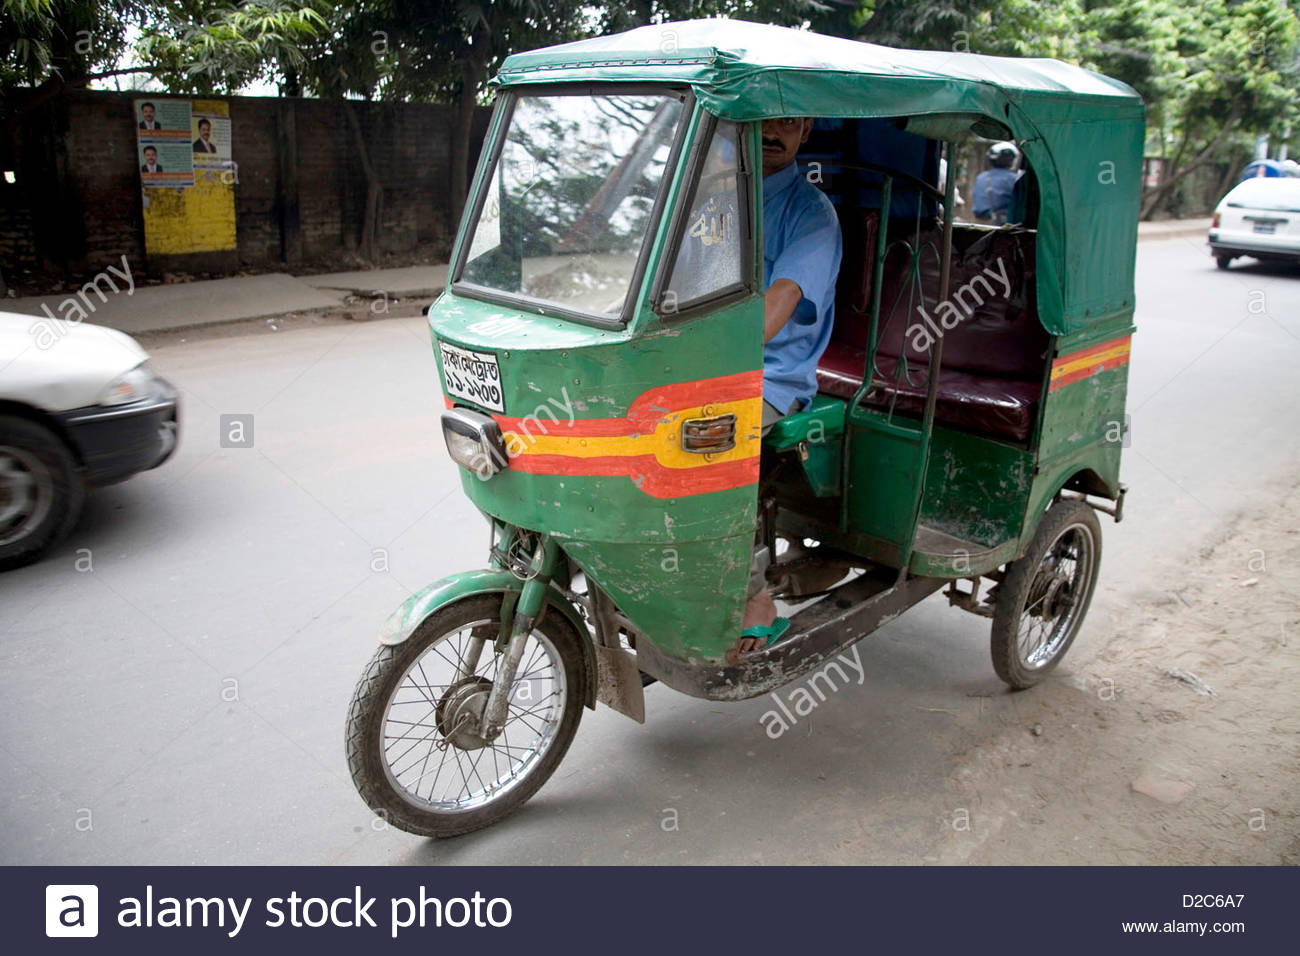auto rickshaw: (339, 15, 1147, 842)
car: (1206, 178, 1300, 264)
